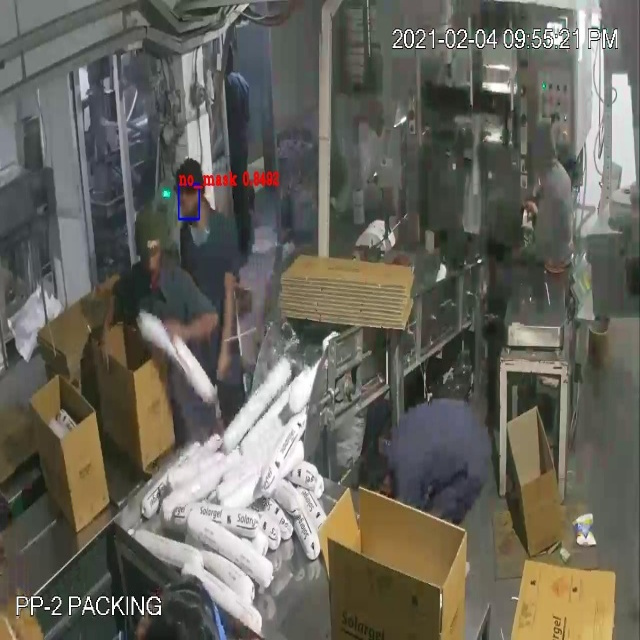Sin_guantes: (207, 249, 239, 413), (154, 301, 223, 360), (96, 286, 136, 383)
